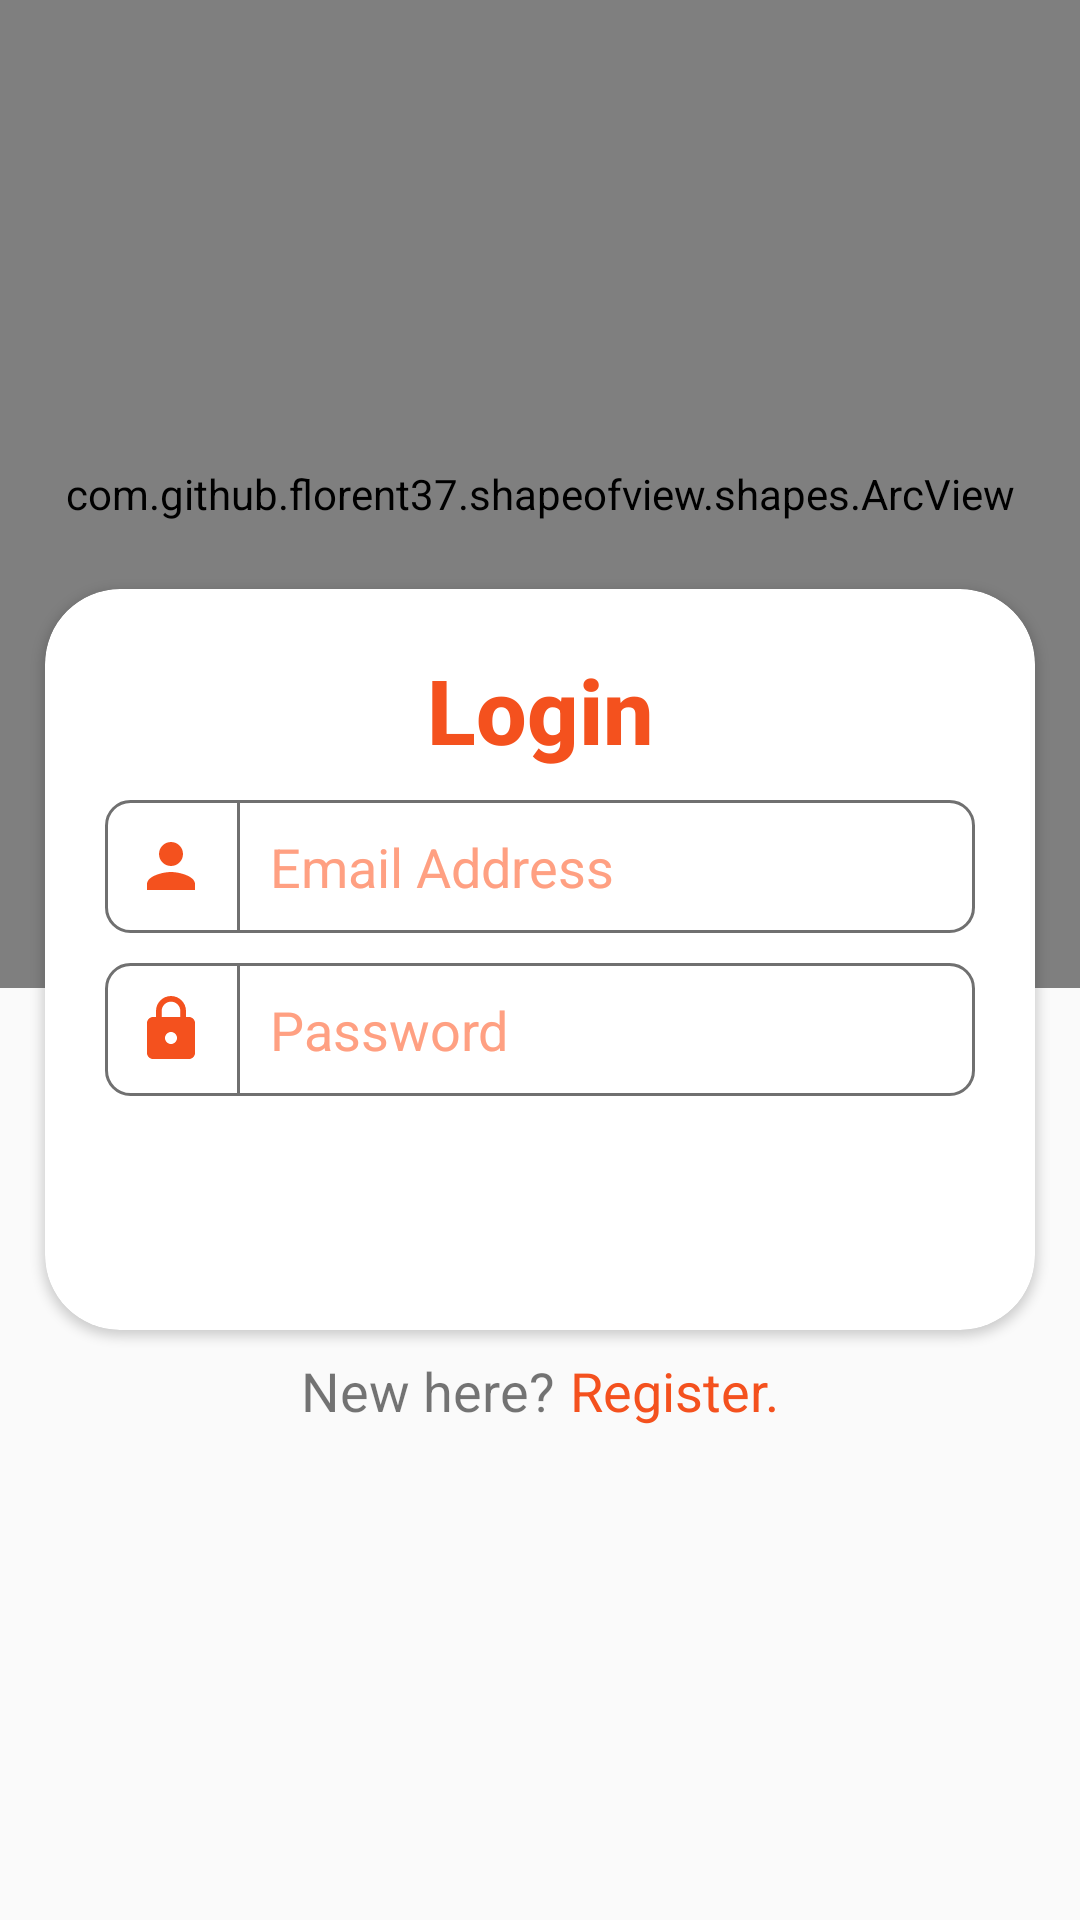

Where to tap for icons on this 1080px×1920px app screen, as (x=x, y=y):
lock: (x=171, y=1027)
